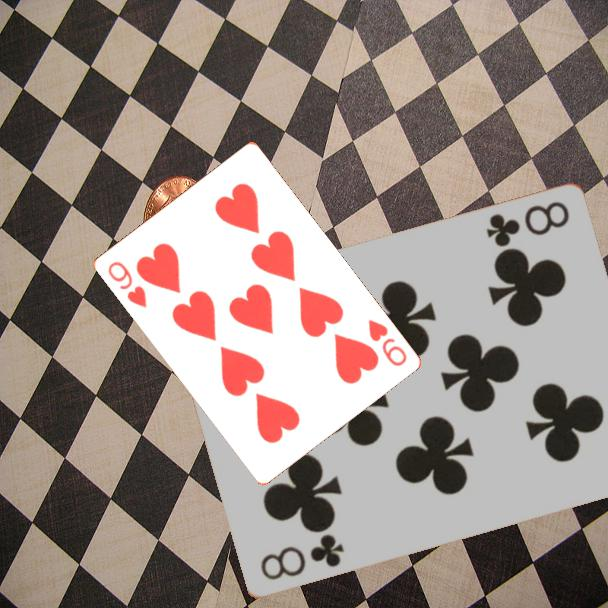c08: (256, 531, 347, 584), (482, 198, 572, 251)
h09: (104, 257, 150, 311), (364, 315, 410, 369)
